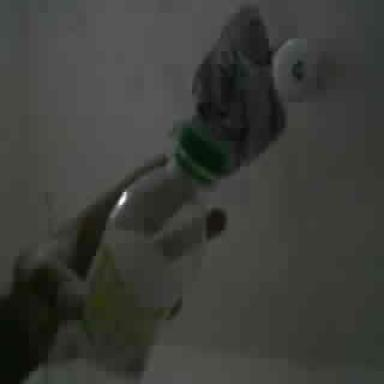bottle: (82, 128, 227, 376)
paper: (179, 5, 282, 178)
